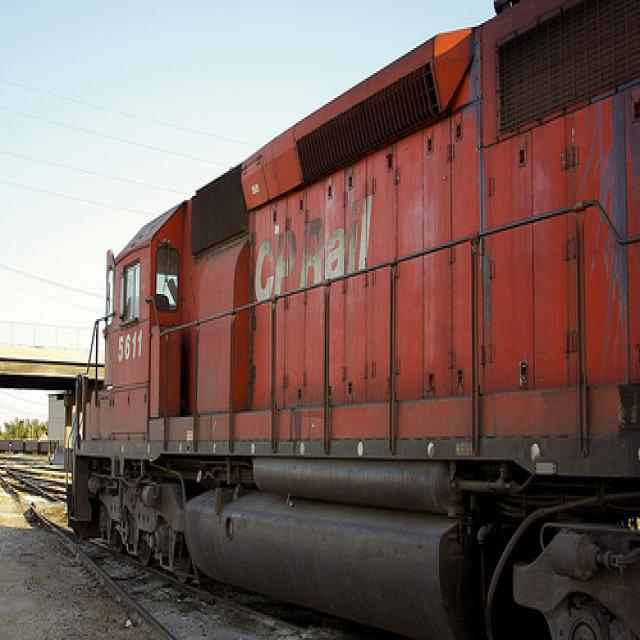locomotive: (61, 0, 640, 640)
